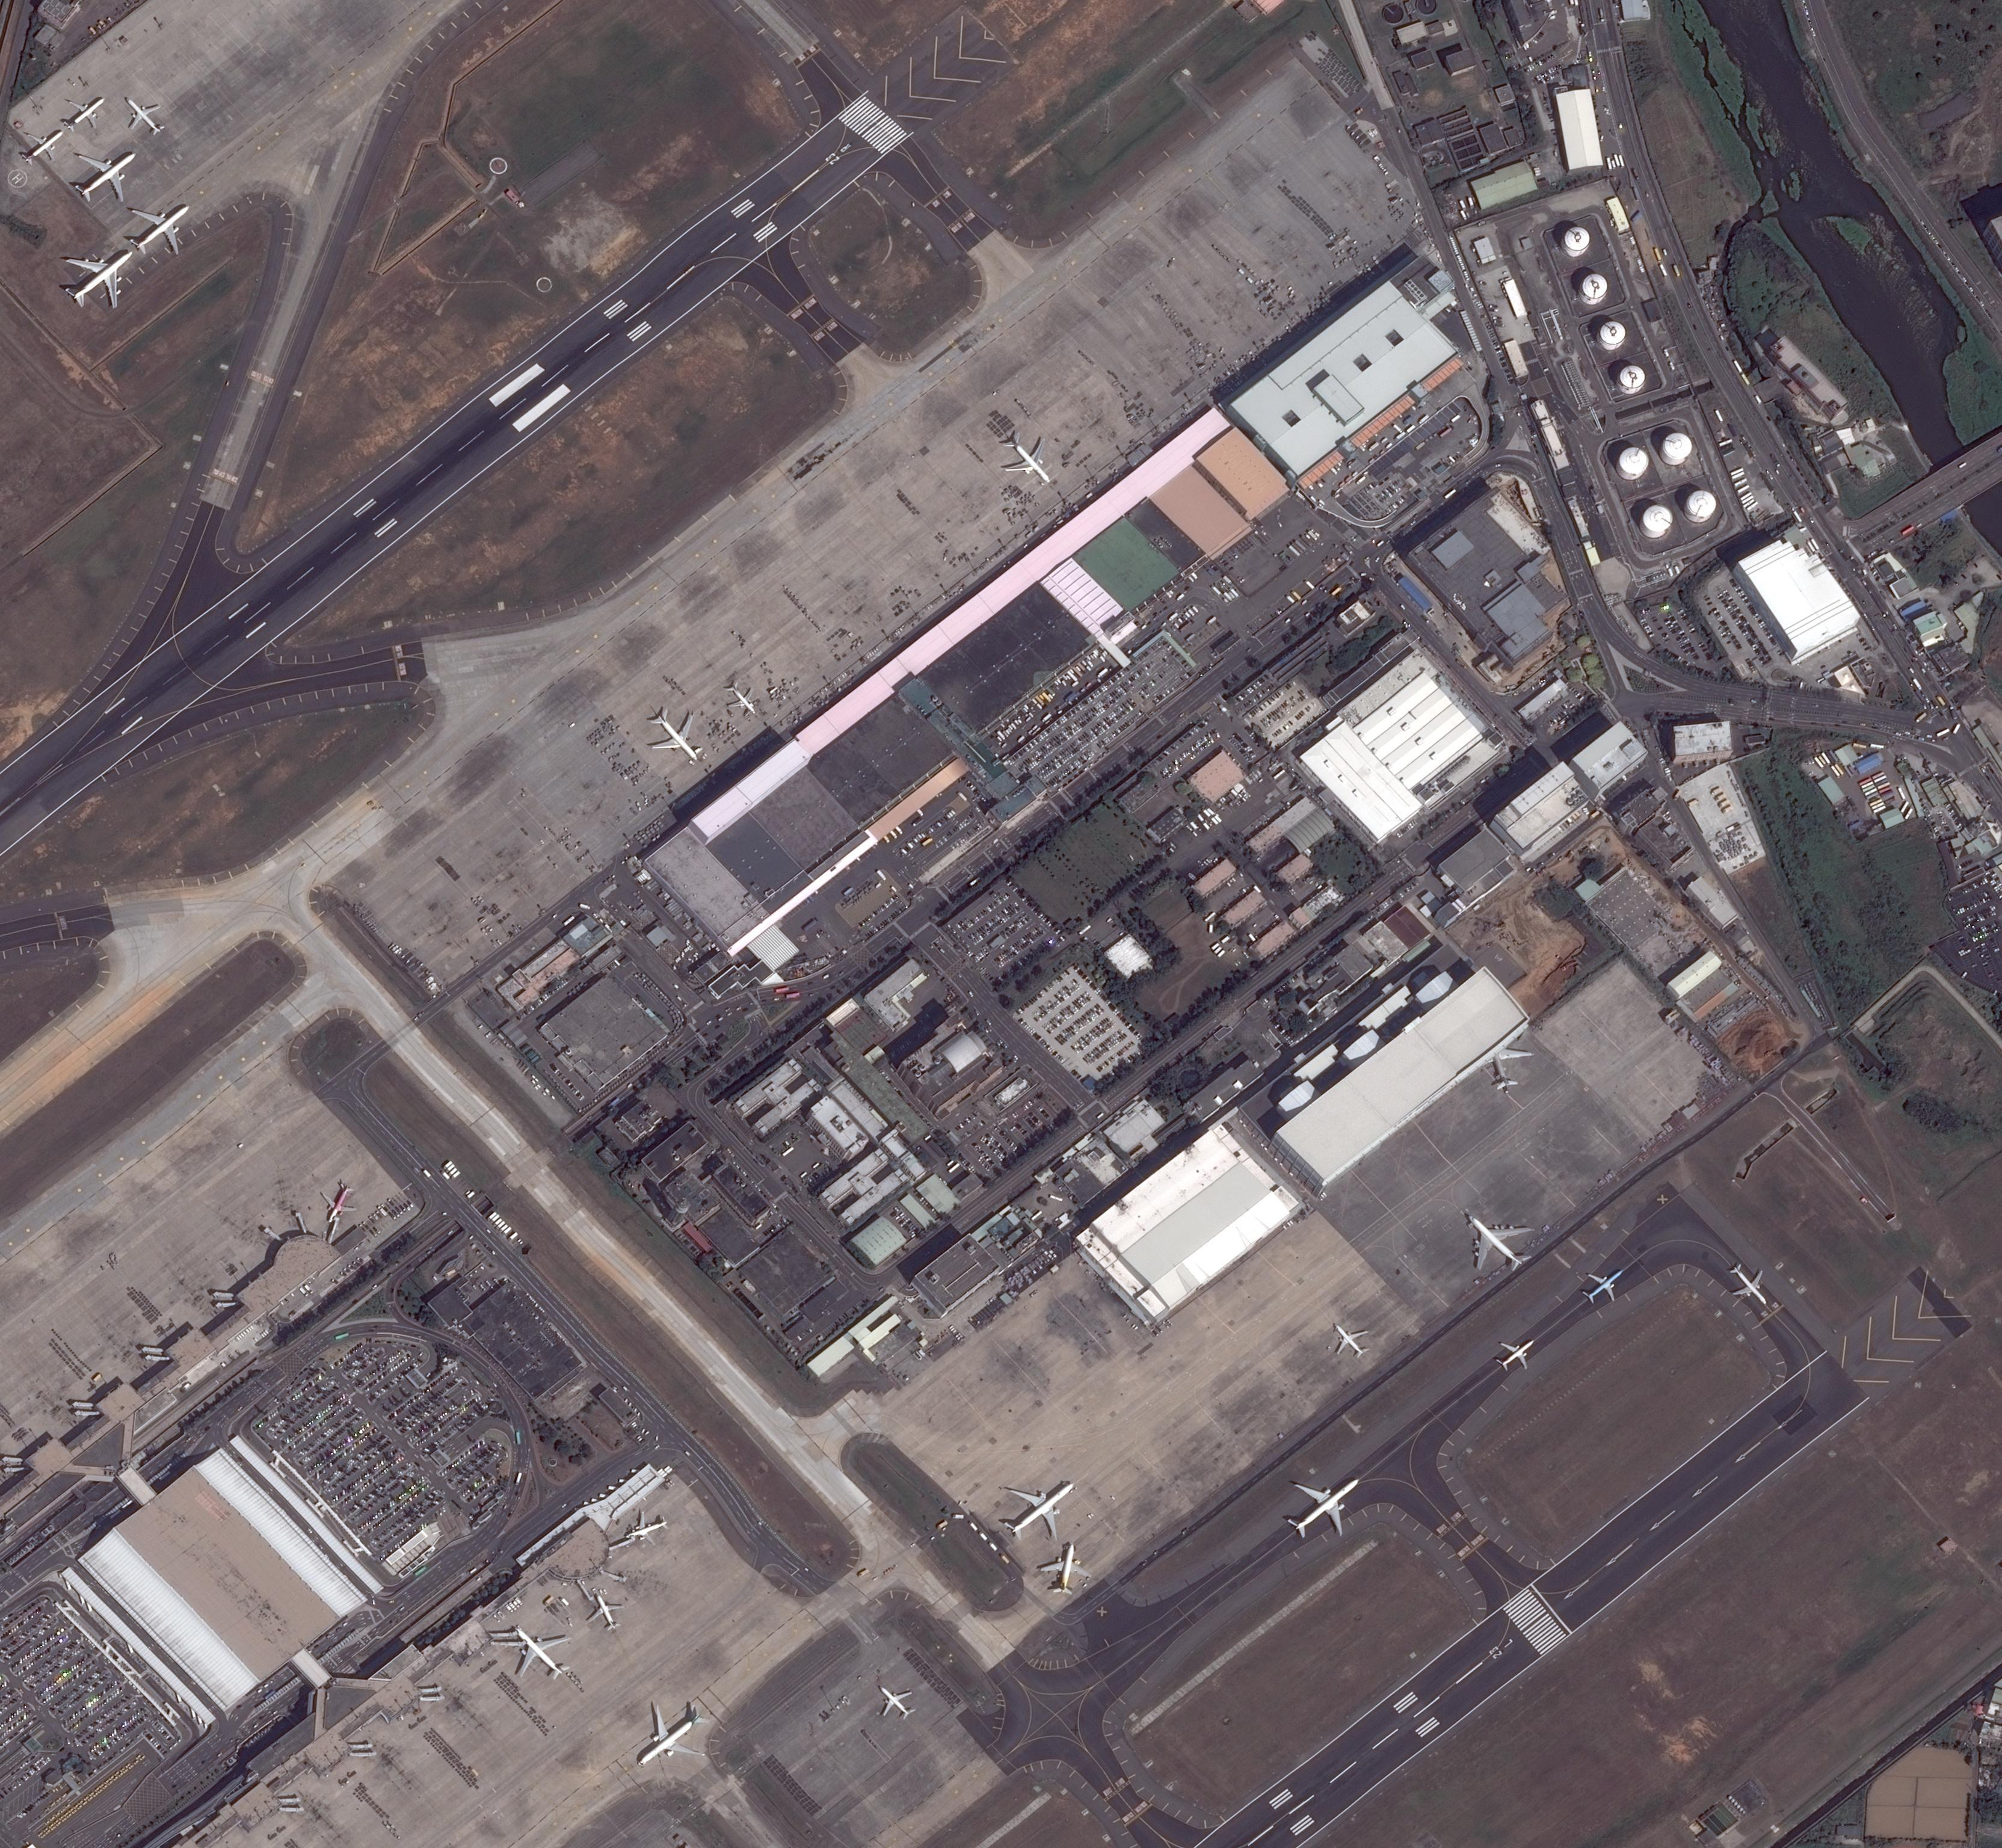plane: (40, 213, 157, 328), (1264, 1451, 1381, 1562), (609, 1682, 727, 1789), (985, 1456, 1100, 1562), (1446, 1189, 1550, 1290), (490, 1604, 588, 1700), (113, 180, 209, 275), (58, 127, 153, 221), (628, 692, 720, 781), (987, 420, 1071, 500), (1481, 1022, 1540, 1100), (1571, 1252, 1638, 1316), (1716, 1254, 1779, 1316), (12, 115, 75, 178), (52, 82, 117, 141), (1032, 1543, 1099, 1597), (112, 85, 171, 145), (310, 1175, 368, 1231), (868, 1674, 924, 1731), (1489, 1327, 1545, 1383), (1322, 1313, 1378, 1369), (621, 1501, 675, 1555), (581, 1590, 633, 1641), (718, 673, 767, 724)
